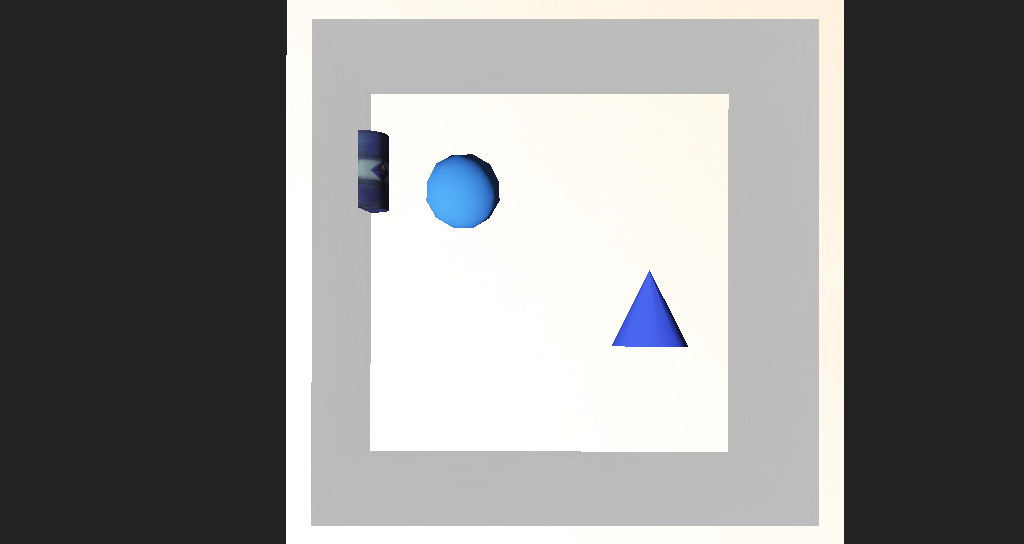cone: (317, 184, 371, 236)
cylinder: (552, 265, 620, 317)
sphere: (397, 196, 465, 243)
